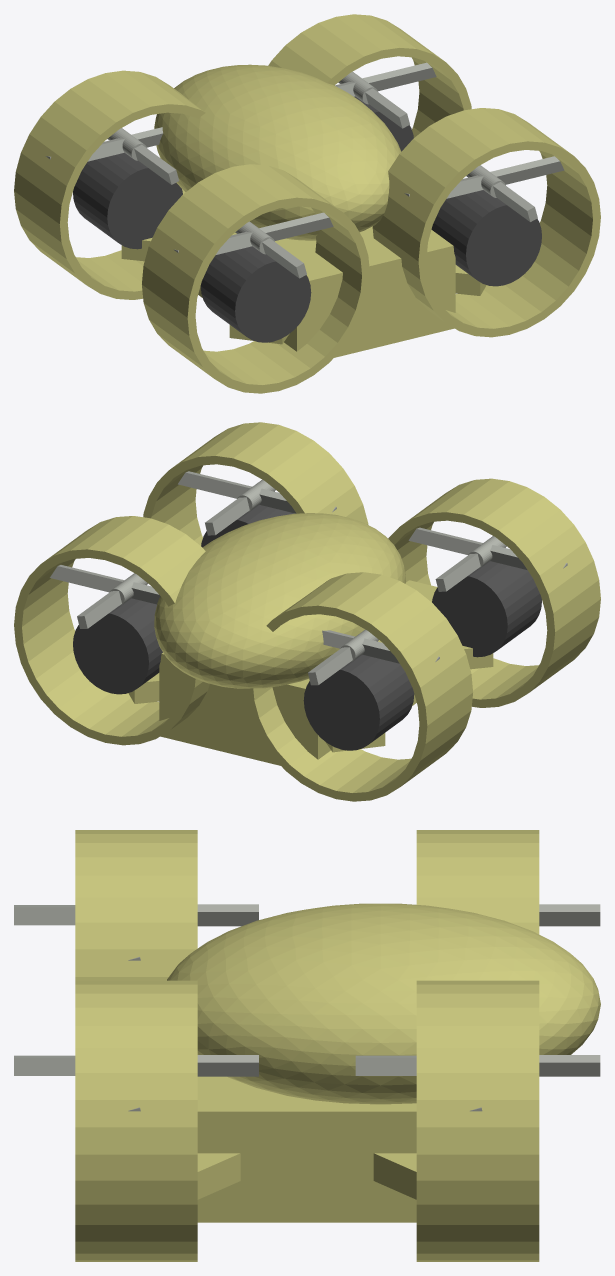
File: AcroBee.glb
3 views of the same model, one above another, from view 1: azimuth 30°, elevation 25°; view 2: azimuth 150°, elevation 25°; view 3: azimuth 270°, elevation 25° (orthographic). The views are drawn at different scales.
Visible parts, largest first — view 1: canopy, duct_0, duct_2, duct_3, frame_body, duct_1, motor_2, motor_0, motor_3, prop_0, prop_2, prop_1 (+3 smaller); view 2: canopy, duct_3, duct_1, duct_2, duct_0, frame_body, motor_3, motor_2, motor_1, prop_0, prop_2, prop_1 (+3 smaller); view 3: canopy, duct_1, duct_0, frame_body, duct_2, duct_3, prop_0, prop_1, prop_2, arm_0, arm_1, prop_3.
Boxes of the visible parts, box(x1,y1,x2,y2) form: canopy: box(154, 64, 401, 240); duct_0: box(372, 108, 600, 337); duct_2: box(142, 164, 369, 393); duct_3: box(14, 70, 205, 299); frame_body: box(182, 189, 455, 357); duct_1: box(268, 14, 471, 137); motor_2: box(200, 246, 311, 342); motor_0: box(431, 190, 541, 286); motor_3: box(73, 152, 182, 249); prop_0: box(404, 156, 564, 221); prop_2: box(174, 212, 333, 278); prop_1: box(335, 62, 436, 128); canopy: box(154, 513, 405, 688); duct_3: box(245, 572, 472, 801); duct_1: box(14, 516, 209, 745); duct_2: box(388, 478, 600, 707); duct_0: box(143, 422, 368, 545); frame_body: box(159, 580, 437, 765); motor_3: box(303, 654, 414, 750); motor_2: box(432, 561, 541, 657); motor_1: box(73, 598, 162, 694); prop_0: box(178, 471, 336, 535); prop_2: box(408, 527, 567, 591); prop_1: box(50, 565, 160, 628); canopy: box(167, 903, 600, 1104); duct_1: box(416, 980, 539, 1261); duct_0: box(75, 980, 197, 1261); frame_body: box(197, 1076, 416, 1222); duct_2: box(75, 830, 197, 980); duct_3: box(416, 830, 539, 934); prop_0: box(14, 1055, 258, 1111); prop_1: box(355, 1055, 600, 1111); prop_2: box(14, 904, 258, 960); arm_0: box(197, 1153, 240, 1199); arm_1: box(373, 1153, 416, 1199); prop_3: box(539, 904, 600, 926).
Bounding box in the file's own units: 0.1042 × 0.046 × 0.0959.
